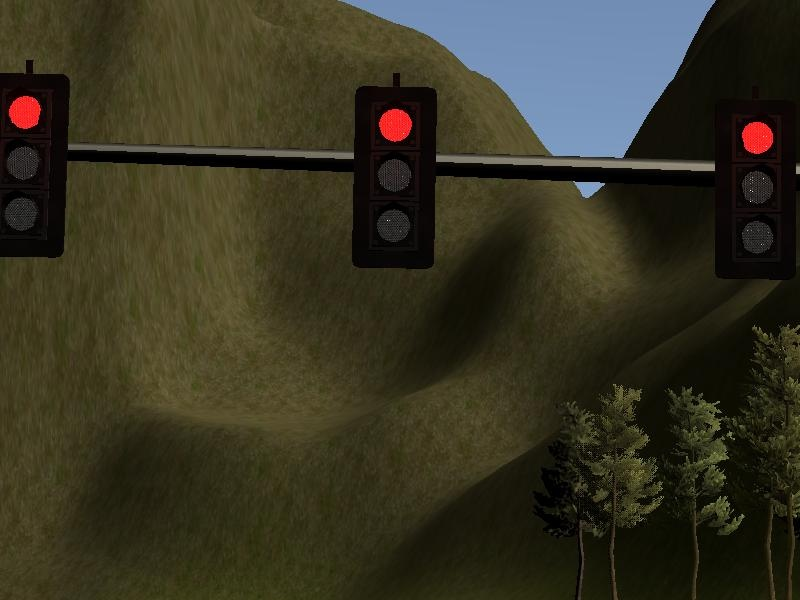RED: (355, 86, 434, 267), (718, 95, 797, 276), (1, 75, 72, 255)
